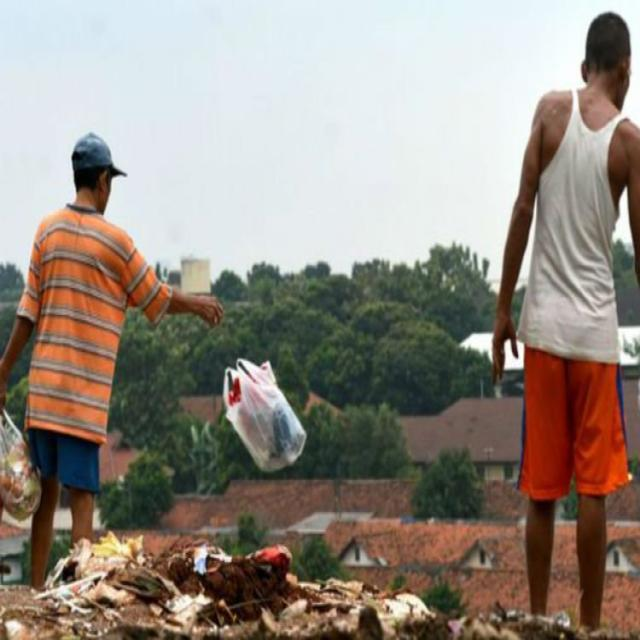sampah-detection: (221, 357, 309, 478)
